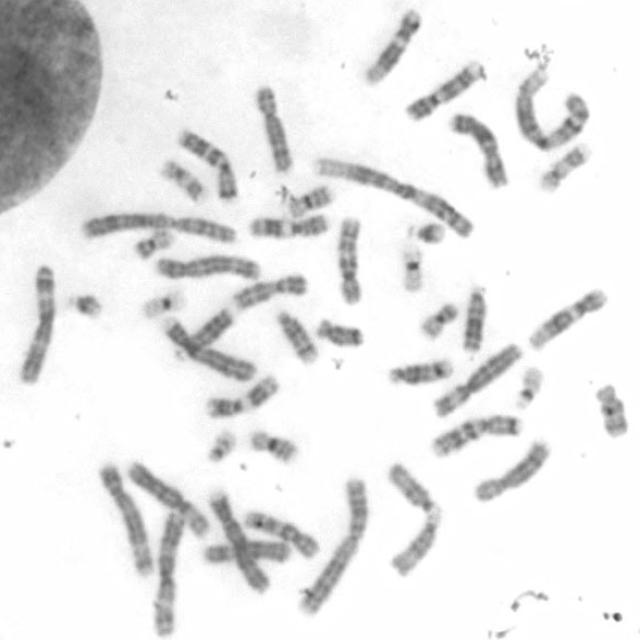A1: (309, 150, 479, 240), (509, 57, 594, 153)
A2: (293, 471, 370, 616), (75, 207, 236, 244)
A3: (12, 258, 60, 384), (148, 505, 186, 637)
B4: (202, 482, 274, 596), (155, 310, 258, 382)
B5: (94, 457, 156, 578), (150, 249, 262, 282)
C10: (240, 504, 324, 561), (330, 210, 367, 307)
C11: (201, 370, 282, 420), (244, 208, 330, 241)
C12: (522, 280, 610, 353), (359, 1, 426, 87)
C6: (426, 338, 524, 420), (123, 455, 212, 540)
C7: (173, 124, 241, 204), (426, 408, 526, 459)
C8: (468, 432, 553, 505), (250, 81, 295, 173)
C9: (399, 53, 489, 122), (227, 268, 310, 312)
D13: (169, 304, 236, 362), (456, 280, 490, 354)
D14: (271, 304, 321, 366), (382, 352, 456, 387)
D15: (383, 505, 444, 580), (384, 458, 439, 515)
E16: (244, 423, 301, 466), (282, 178, 336, 219)
E17: (534, 137, 594, 195), (156, 154, 208, 205)
E18: (589, 377, 631, 440), (311, 312, 367, 349)
F19: (394, 237, 427, 295), (136, 286, 188, 320)
F20: (414, 296, 462, 341), (131, 224, 176, 261)
G21: (62, 287, 106, 322), (402, 214, 448, 246)
G22: (508, 358, 546, 410), (202, 424, 238, 463)
X: (444, 106, 513, 190), (197, 534, 294, 567)
